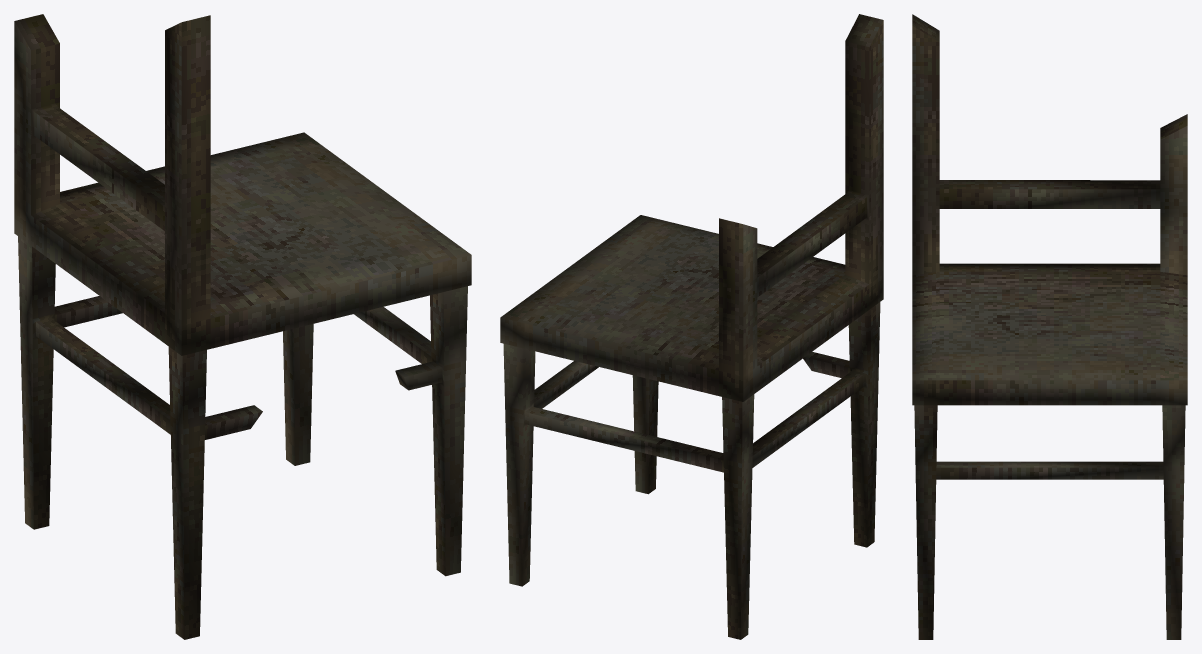
Rendered from chair.glb.
3 views of the same model, side by side, from view 1: azimuth 30°, elevation 25°; view 2: azimuth 150°, elevation 25°; view 3: azimuth 270°, elevation 25° (orthographic). The views are drawn at different scales.
Visible parts, largest first — view 1: Chair; view 2: Chair; view 3: Chair.
Boxes of the visible parts, x1=… form: Chair: x1=14, y1=14, x2=471, y2=639; Chair: x1=500, y1=14, x2=883, y2=639; Chair: x1=912, y1=14, x2=1187, y2=639.
Bounding box in the file's own units: 0.5 × 1.03 × 0.5.
Materials: 1 (1 with a texture image).
